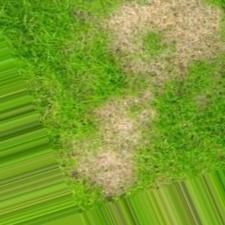patch: (158, 12, 213, 47), (103, 12, 152, 44), (79, 149, 122, 183), (98, 99, 133, 135), (131, 58, 165, 95), (179, 55, 194, 76)
